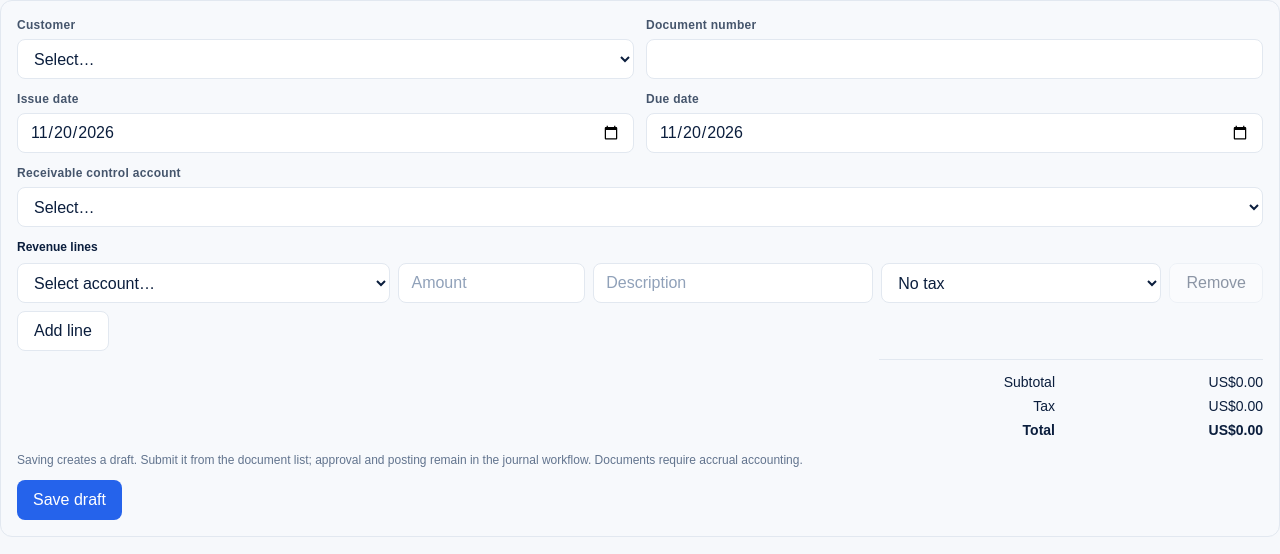
Scenario: receivables and payables UI › previews configured tax using exact percentage arithmetic
The image size is (1280, 554).
Type "100" into the field named "Line 1 amount" at [492, 283], box [398,263,585,303]
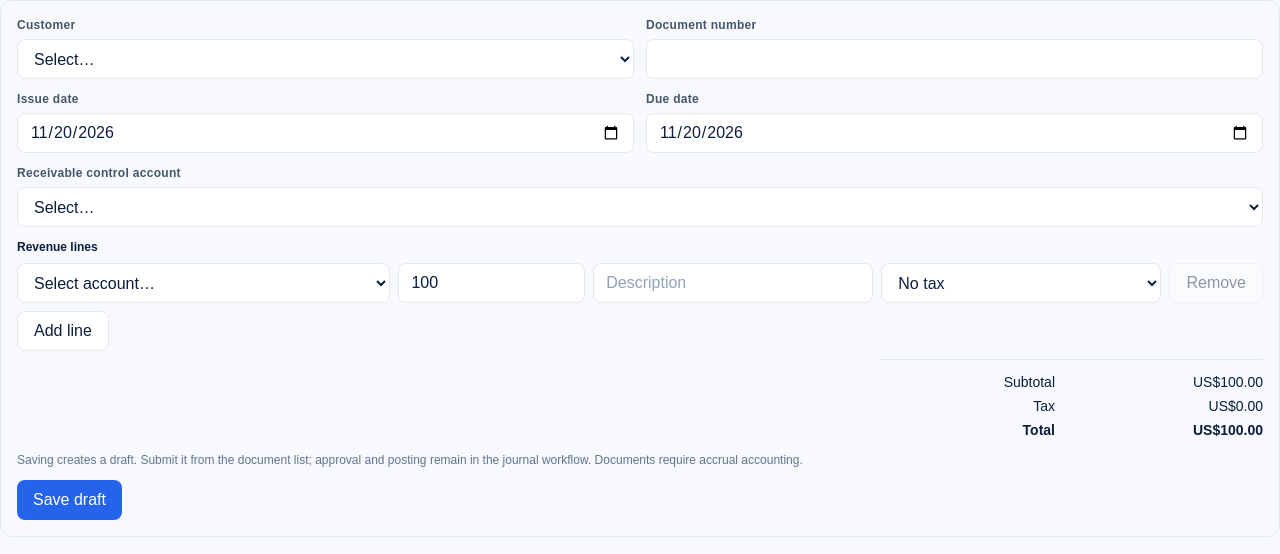
Select "VAT · 17.5%" in the dropdown named "Line 1 tax code" at [1021, 283], box [881,263,1161,303]
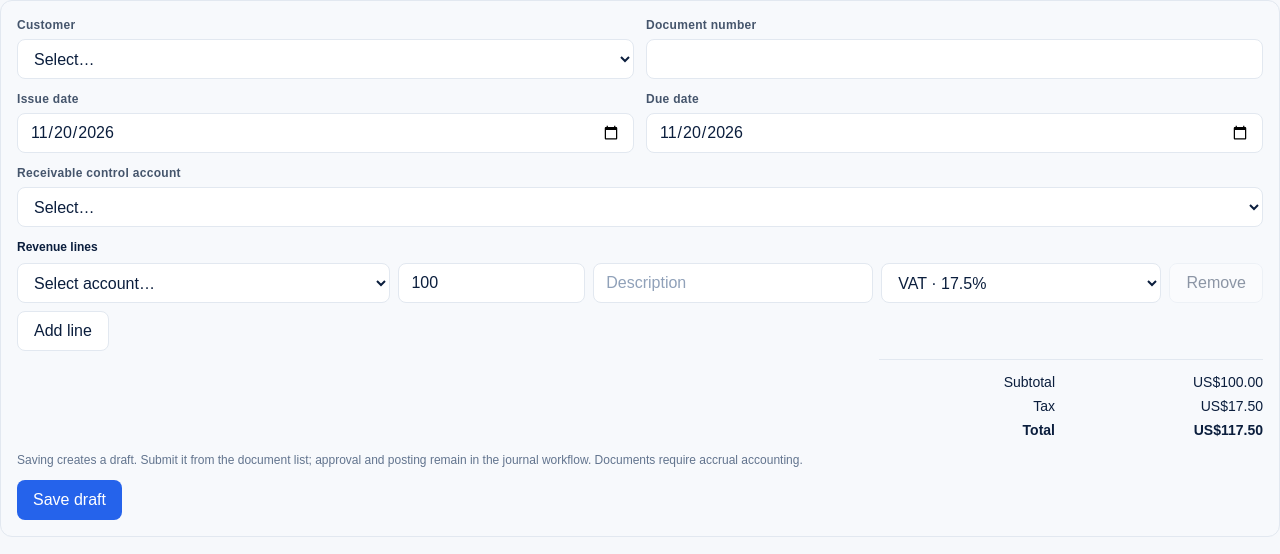
Check: the text "Tax" is shown, box [1033,398,1055,414]
Check: the text "US$17.50" is shown, box [1201,398,1263,414]
Check: the text "US$117.50" is shown, box [1194,422,1263,438]
